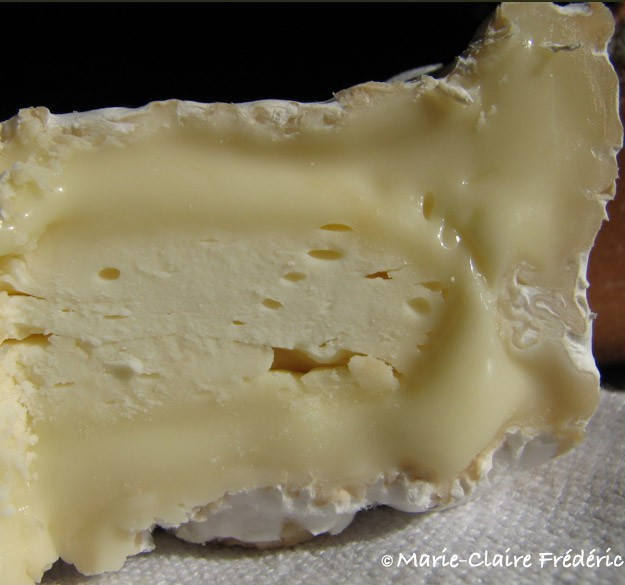camembert: (4, 2, 625, 584)
